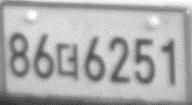1: (160, 38, 178, 87)
2: (109, 37, 130, 83)
5: (133, 37, 155, 85)
6: (82, 36, 107, 82), (32, 32, 55, 80)
8: (8, 32, 30, 77)
더: (55, 42, 80, 81)
